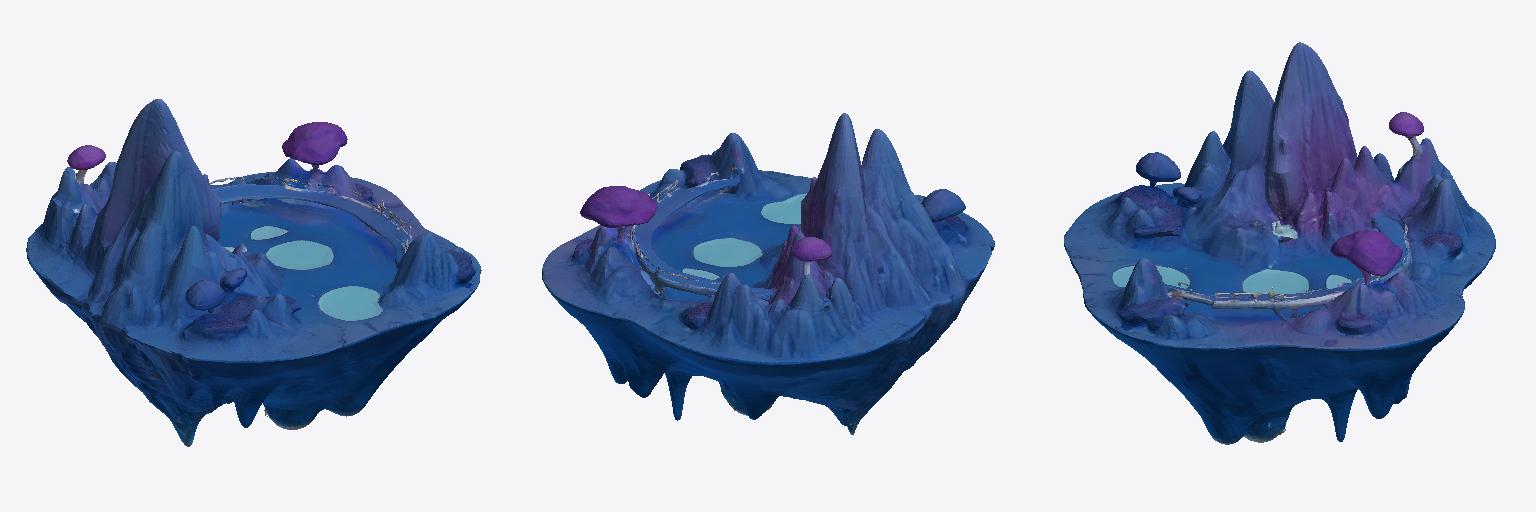
The picture shows the model from 3 angles: view 1: azimuth 30°, elevation 25°; view 2: azimuth 150°, elevation 25°; view 3: azimuth 270°, elevation 25°; orthographic projection.
Parts seen in each view (by area): view 1: tripo_node_7ca71e0e-495c-40ab-876f-a3fe45cf8021; view 2: tripo_node_7ca71e0e-495c-40ab-876f-a3fe45cf8021; view 3: tripo_node_7ca71e0e-495c-40ab-876f-a3fe45cf8021.
Boxes of the visible parts, x1=… form: tripo_node_7ca71e0e-495c-40ab-876f-a3fe45cf8021: x1=26, y1=99, x2=481, y2=446; tripo_node_7ca71e0e-495c-40ab-876f-a3fe45cf8021: x1=542, y1=113, x2=994, y2=434; tripo_node_7ca71e0e-495c-40ab-876f-a3fe45cf8021: x1=1064, y1=42, x2=1495, y2=444.
Size of the model in its own units: 0.9316 by 0.8697 by 0.9976.
Materials: 1 (1 with a texture image).